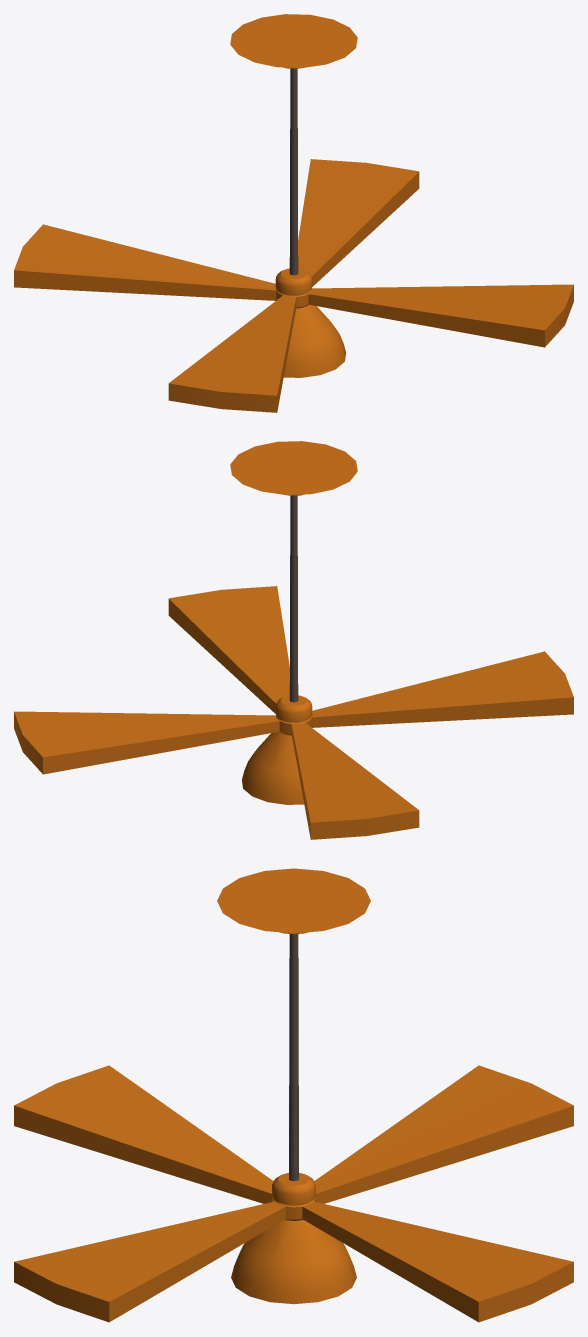
The model's file is fan8.glb.
3 views of the same model, one above another, from view 1: azimuth 30°, elevation 25°; view 2: azimuth 150°, elevation 25°; view 3: azimuth 270°, elevation 25° (orthographic). The views are drawn at different scales.
Visible parts, largest first — view 1: Fan8_Tris; view 2: Fan8_Tris; view 3: Fan8_Tris.
Boxes of the visible parts, <box> form: Fan8_Tris: <box>14,14,573,412</box>; Fan8_Tris: <box>14,441,573,839</box>; Fan8_Tris: <box>14,868,573,1322</box>.
Size of the model in its own units: 2.43 by 1.8 by 2.43.
